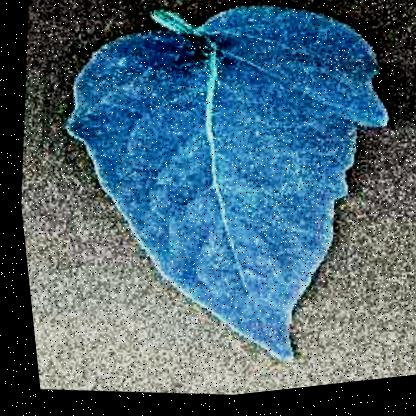Healthy: (11, 0, 415, 407)
